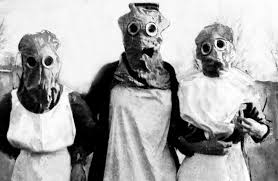mask: (12, 31, 62, 106)
